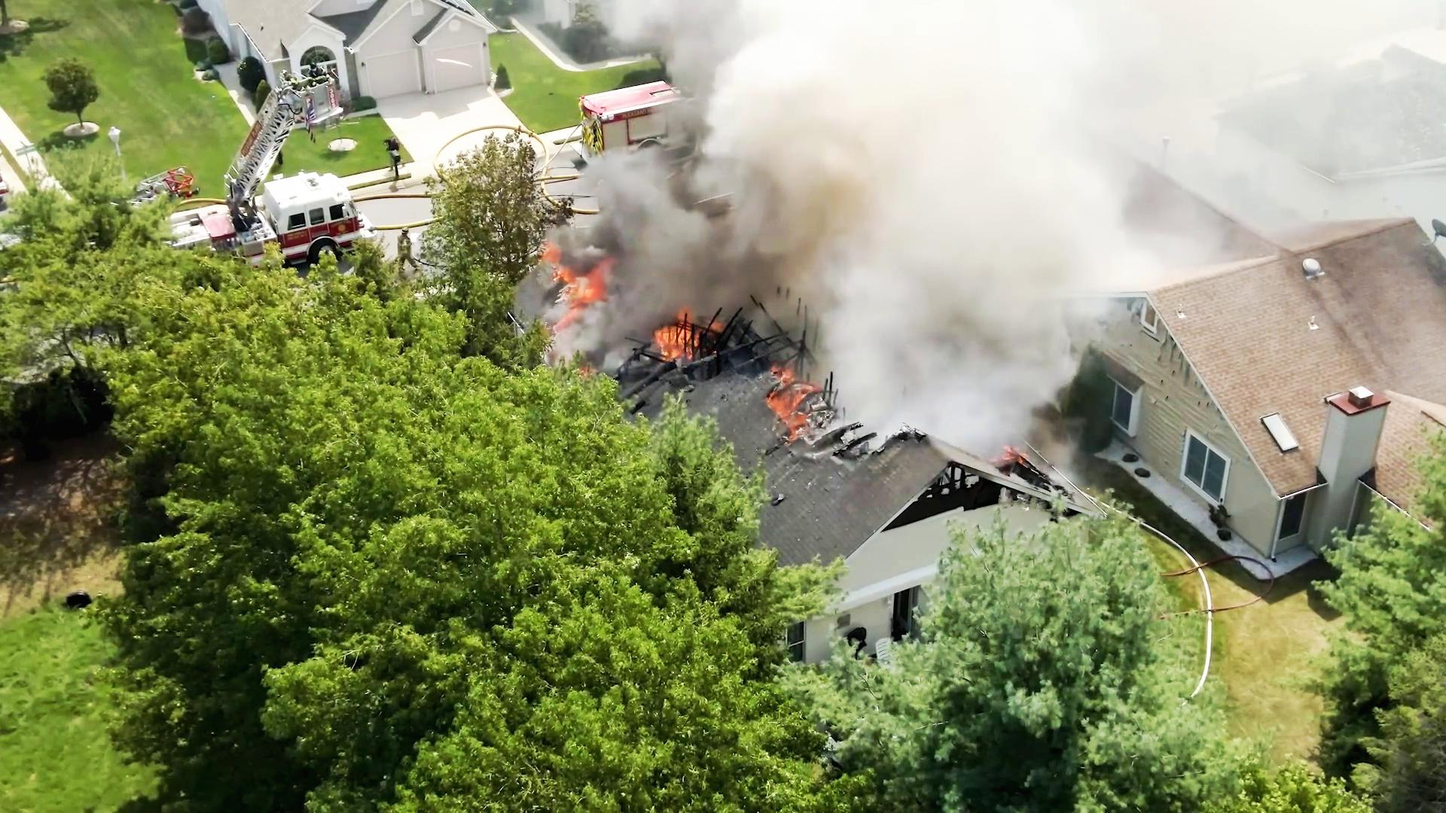smoke: (712, 0, 1095, 273), (593, 153, 785, 293)
